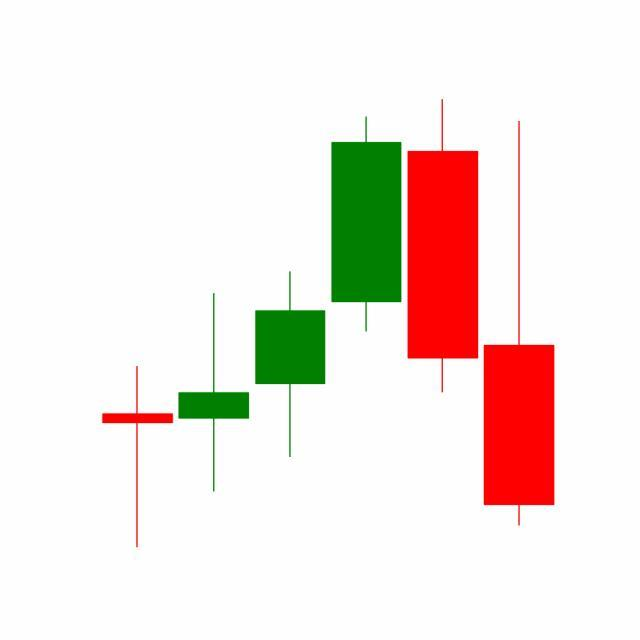Upside-Downside Gap Three Methods: (252, 99, 482, 462)
